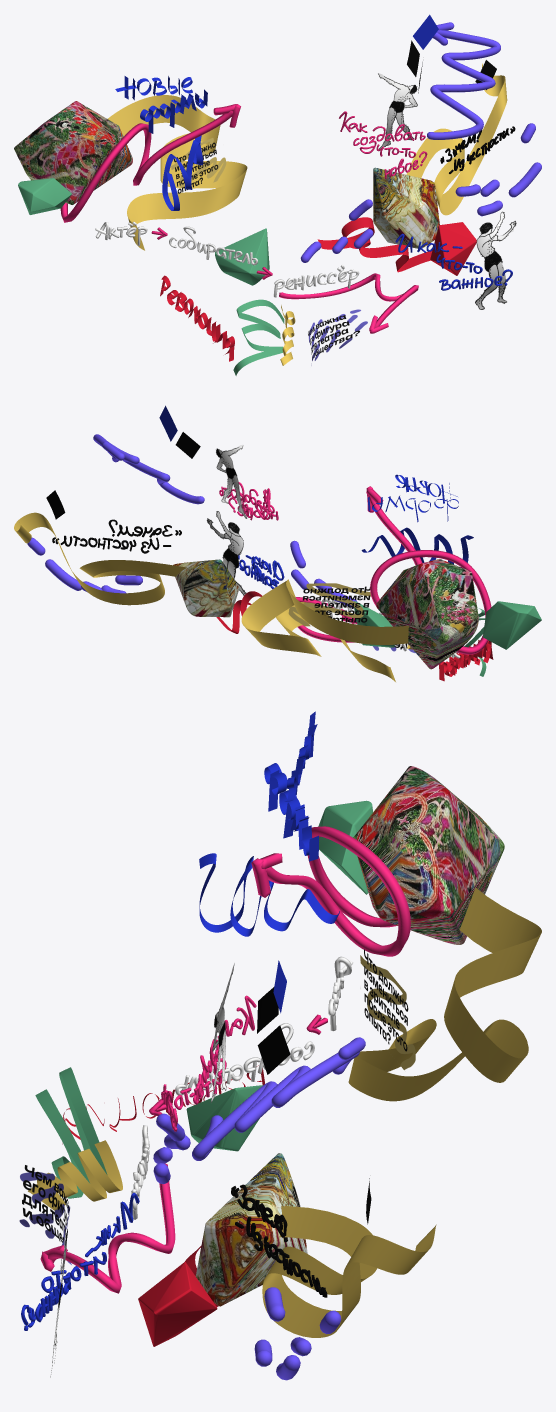
3 renders of one model, top to bottom at view 1: azimuth 30°, elevation 25°; view 2: azimuth 150°, elevation 25°; view 3: azimuth 270°, elevation 25°, orthographic. The views are drawn at different scales.
Parts seen in each view (by area): view 1: s.0069_50, n.0361_28, s.0066_49, n.0366_29, s.0643_199, s.0119_78, s.0630_198, n.0301_22, p.0597_47, s.0276_126, s.0278_127, n.0649_45 (+8 smaller); view 2: s.0069_50, n.0361_28, n.0366_29, s.0066_49, s.0119_78, s.0278_127, n.0345_27, s.0643_199, p.0597_47, n.0252_21, p.0598_48, s.0630_198 (+4 smaller); view 3: s.0069_50, n.0361_28, n.0366_29, s.0066_49, s.0119_78, s.0276_126, s.0643_199, n.0649_45, n.0655_46, n.0345_27, s.0278_127, s.0573_187 (+5 smaller).
Boxes of the visible parts, x1,y1,x2,y2 form: s.0069_50: [14, 101, 132, 204]; n.0361_28: [108, 95, 247, 250]; s.0066_49: [373, 167, 439, 248]; n.0366_29: [406, 63, 507, 215]; s.0643_199: [427, 30, 500, 139]; s.0119_78: [60, 111, 232, 222]; s.0630_198: [215, 228, 269, 285]; n.0301_22: [317, 217, 432, 272]; p.0597_47: [475, 211, 516, 309]; s.0276_126: [430, 222, 476, 275]; s.0278_127: [18, 178, 71, 214]; n.0649_45: [233, 299, 284, 375]; s.0069_50: [376, 559, 478, 669]; n.0361_28: [241, 579, 408, 681]; n.0366_29: [14, 512, 186, 605]; s.0066_49: [173, 559, 239, 617]; s.0119_78: [368, 495, 491, 654]; s.0278_127: [483, 601, 541, 649]; n.0345_27: [288, 583, 371, 626]; s.0643_199: [93, 434, 204, 504]; p.0597_47: [206, 511, 246, 595]; n.0252_21: [361, 527, 473, 564]; p.0598_48: [216, 445, 247, 518]; s.0630_198: [354, 601, 394, 647]; s.0069_50: [353, 766, 504, 944]; n.0361_28: [348, 887, 541, 1101]; n.0366_29: [262, 1206, 436, 1337]; s.0066_49: [195, 1153, 307, 1306]; s.0119_78: [265, 826, 410, 956]; s.0276_126: [138, 1262, 217, 1346]; s.0643_199: [192, 1052, 359, 1160]; n.0649_45: [35, 1067, 107, 1198]; n.0655_46: [28, 1140, 122, 1210]; n.0345_27: [360, 949, 415, 1070]; s.0278_127: [318, 800, 372, 894]; s.0573_187: [48, 1163, 175, 1293].
Size of the model in its own units: 5.42 by 2.64 by 2.86.
Materials: 14 (6 with a texture image).
